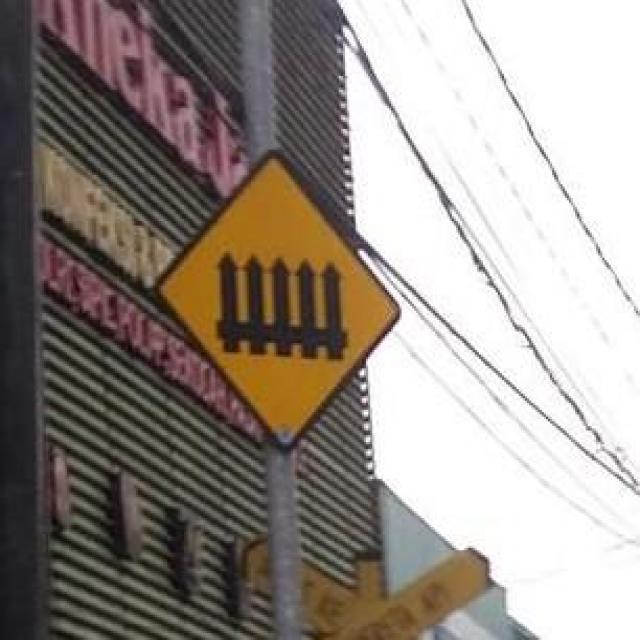traffic sign: (172, 157, 393, 438)
